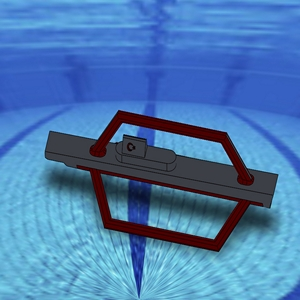submarine: (4, 76, 300, 286)
